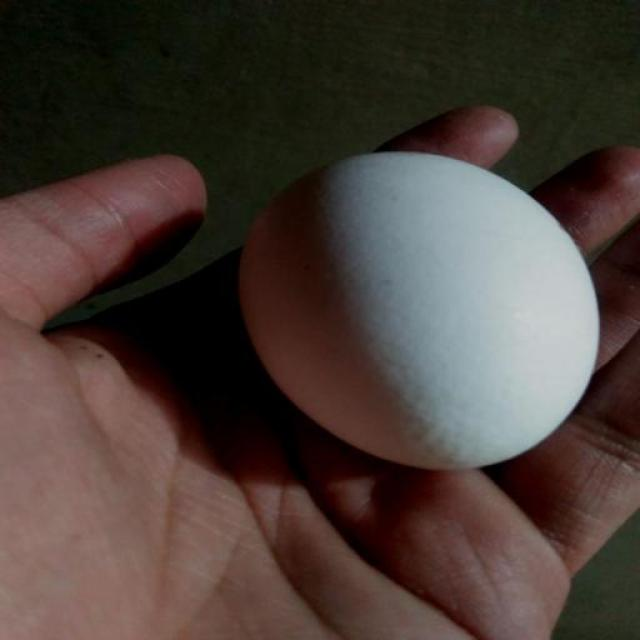telur: (243, 154, 594, 473)
